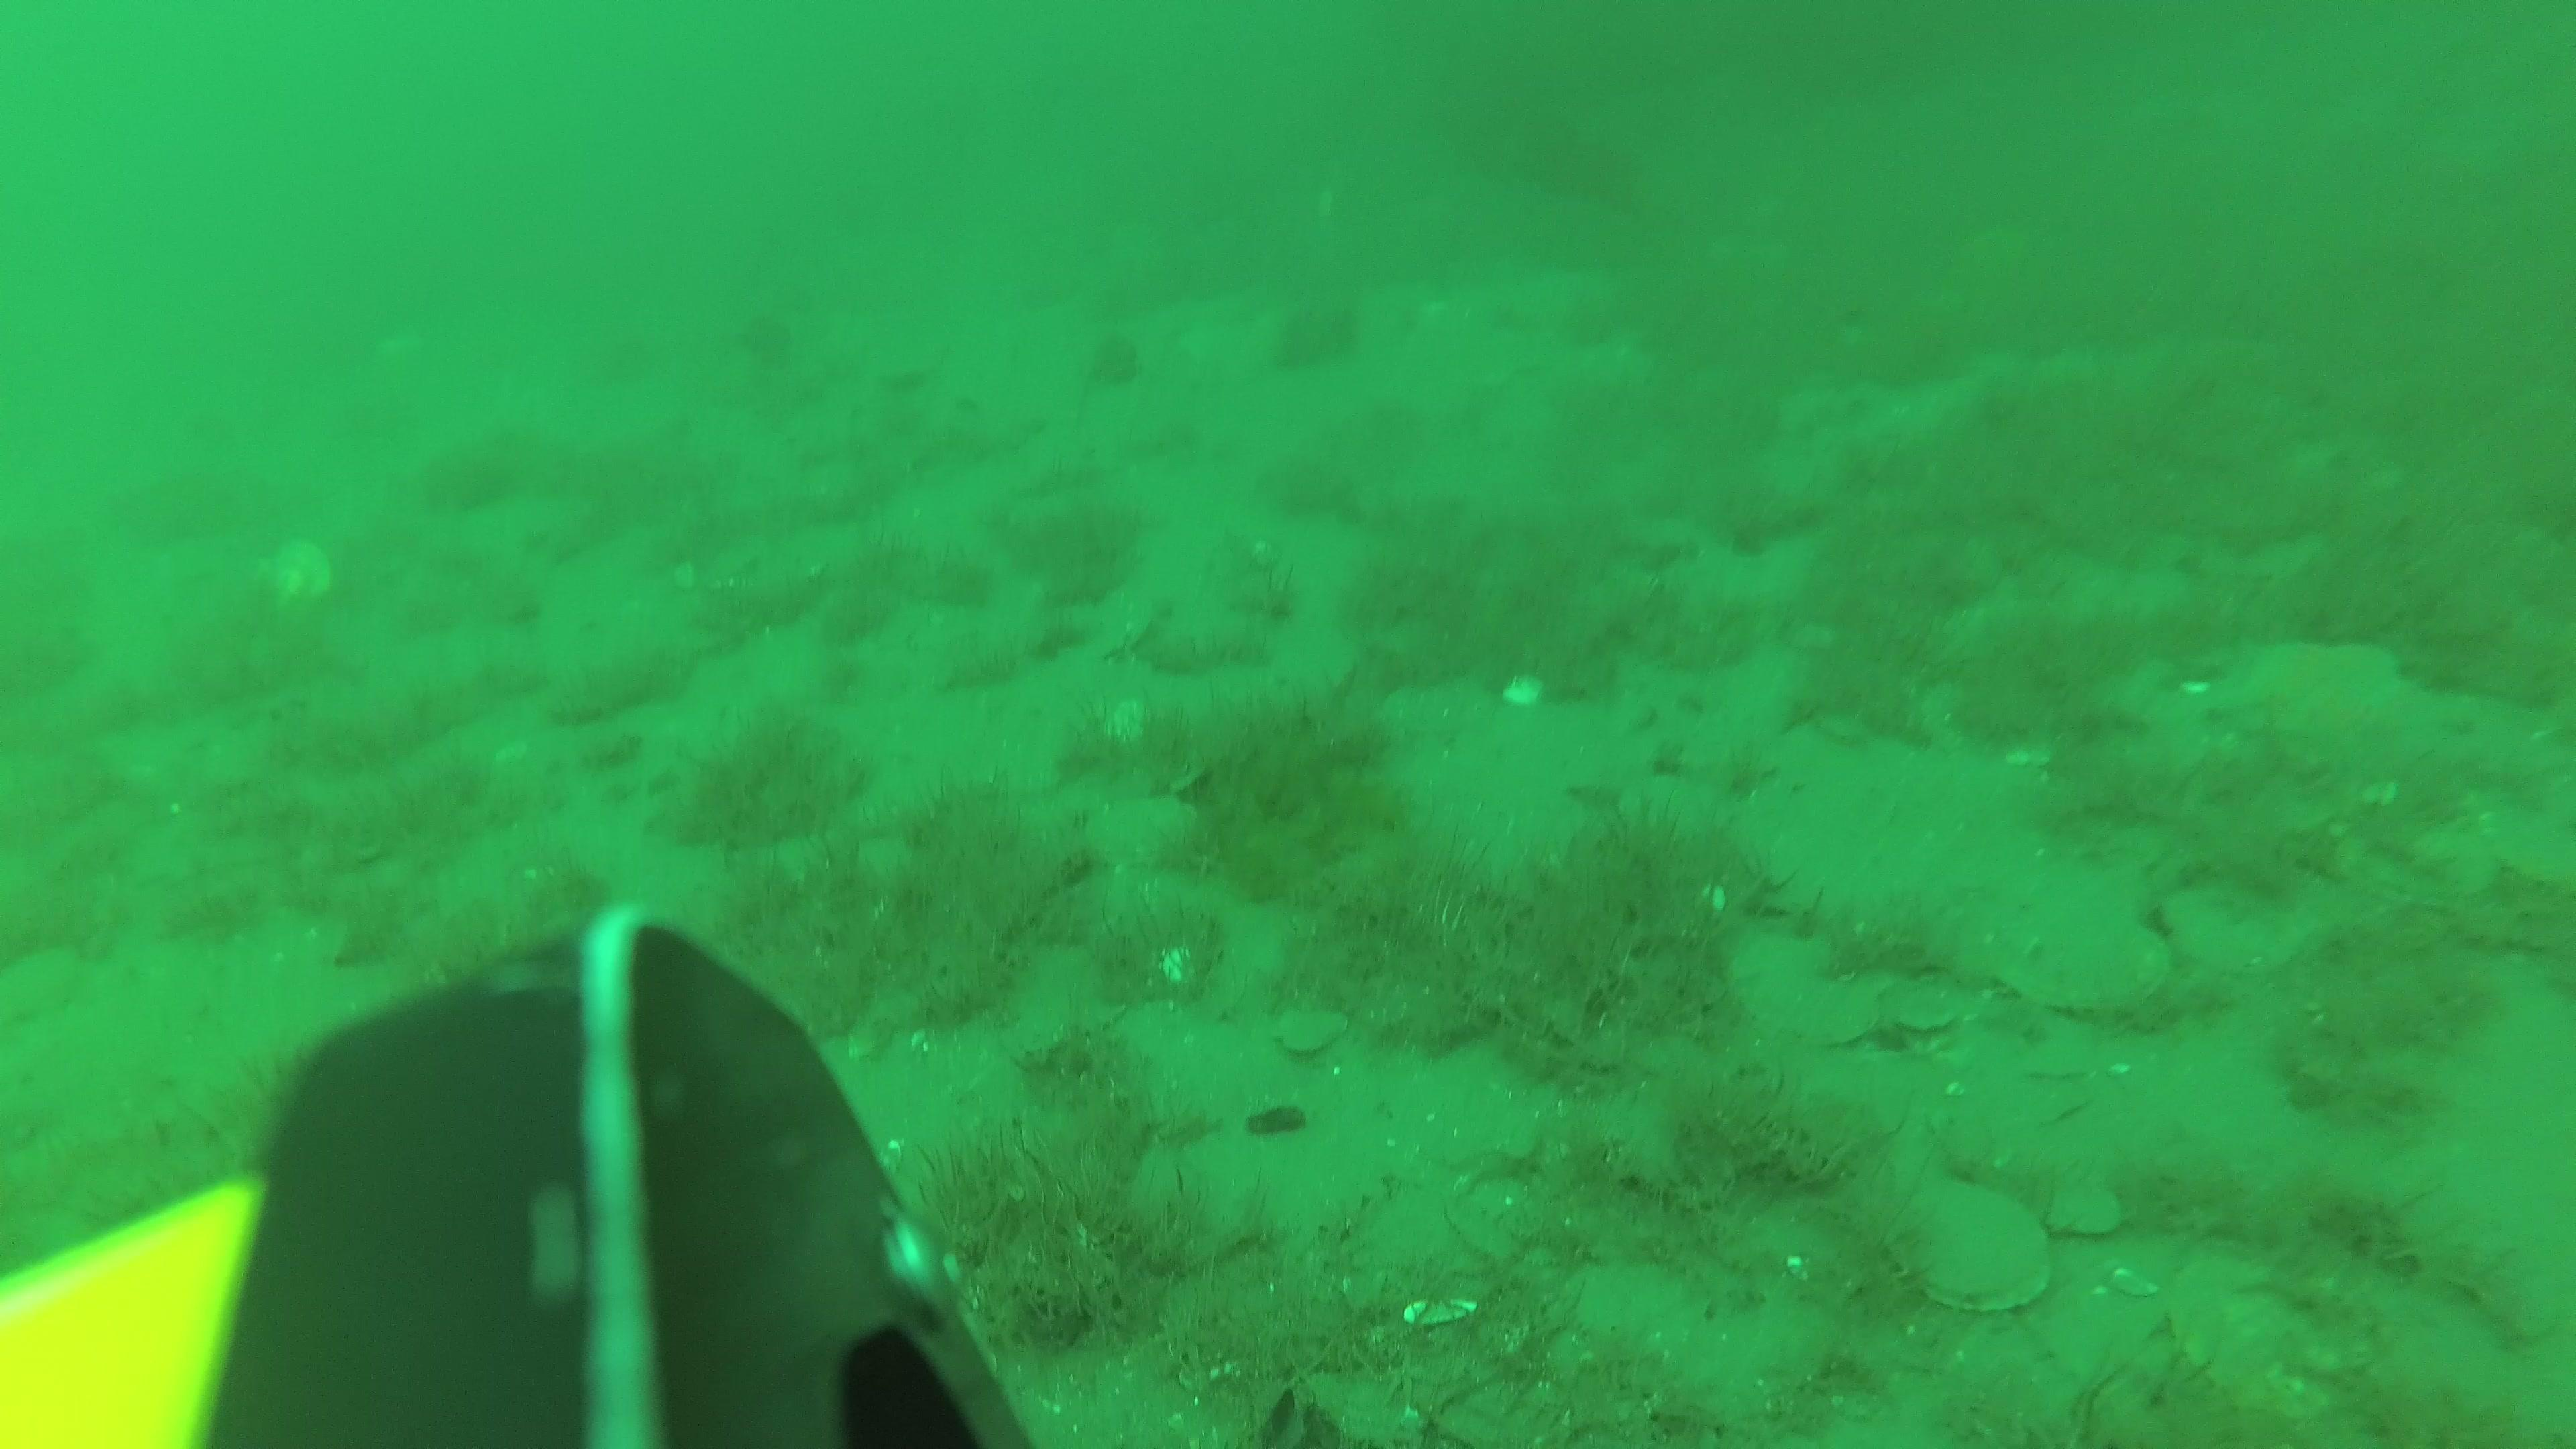scallop: (2173, 1254, 2346, 1417), (1893, 1177, 2051, 1318), (2003, 902, 2162, 1016), (1729, 941, 1881, 1049), (2348, 819, 2493, 904), (2178, 888, 2312, 973), (1086, 801, 1205, 872), (262, 540, 336, 614), (2056, 1180, 2123, 1244), (1272, 1005, 1350, 1054), (1898, 996, 1957, 1033)
starfish: (2217, 639, 2413, 775)
